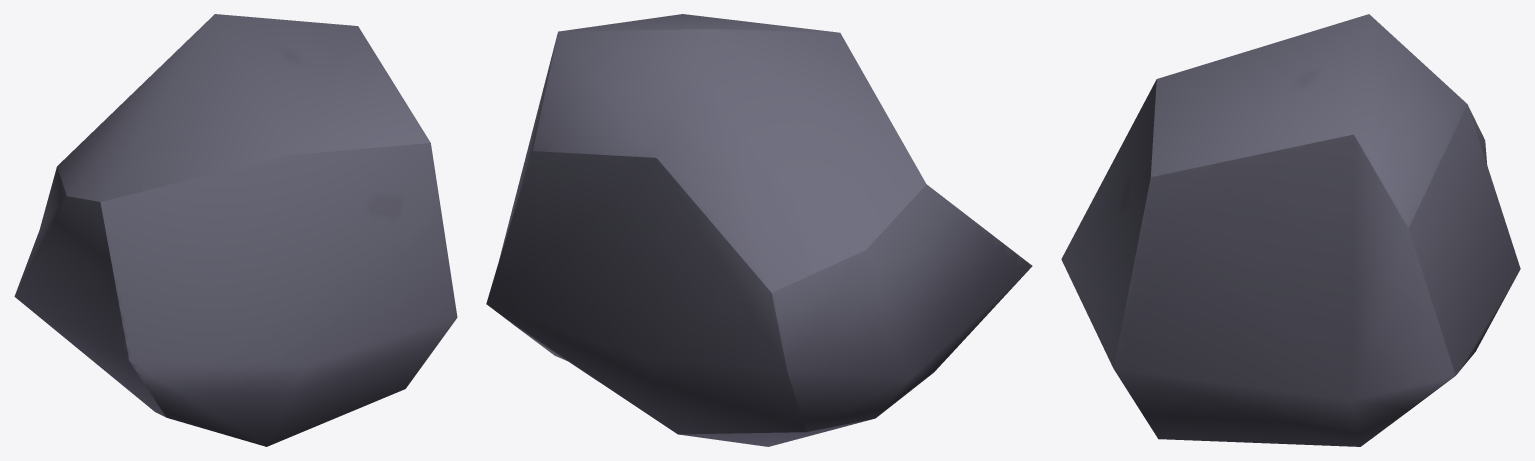
File: rock_5.fbx
3 views of the same model, side by side, from view 1: azimuth 30°, elevation 25°; view 2: azimuth 150°, elevation 25°; view 3: azimuth 270°, elevation 25° (orthographic). The views are drawn at different scales.
Parts seen in each view (by area): view 1: rock_5; view 2: rock_5; view 3: rock_5.
Boxes of the visible parts, bbox=[...] form: rock_5: bbox=[14, 14, 457, 446]; rock_5: bbox=[486, 14, 1032, 446]; rock_5: bbox=[1061, 14, 1520, 446].
Bounding box in the file's own units: 0.691 × 0.6405 × 0.6496.
